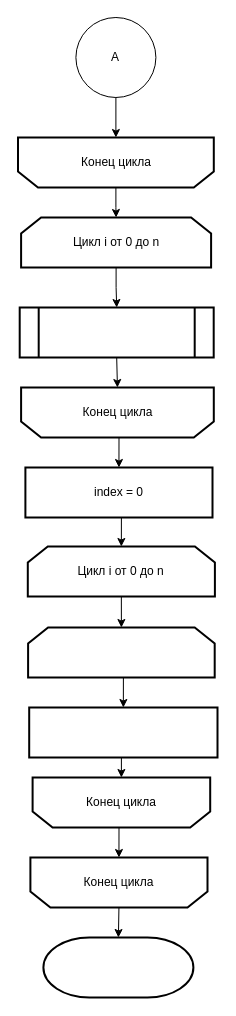
This 236x1016 diagram has some shape labels left out. Each missing label, with the box of its shape:
arr[index++] = b[i][j]: (28, 706, 218, 758)
smooth_sort(b[i]): (18, 306, 214, 358)
Конец: (42, 936, 194, 998)
Цикл j от 0 до b[i].Lenght: (27, 626, 215, 678)
